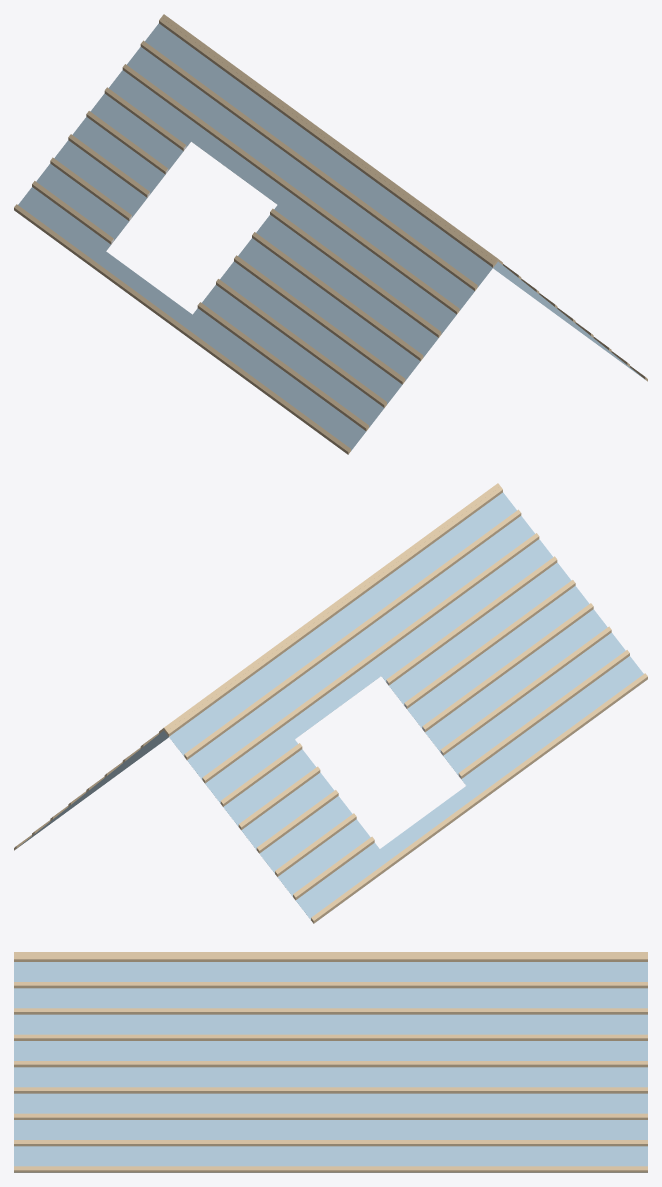
File: stage-5.glb
3 views of the same model, one above another, from view 1: azimuth 30°, elevation 25°; view 2: azimuth 150°, elevation 25°; view 3: azimuth 270°, elevation 25° (orthographic). The views are drawn at different scales.
Parts seen in each view (by area): view 1: Geom3D (×2); view 2: Geom3D (×2); view 3: Geom3D (×2).
Boxes of the visible parts, x1,y1,x2,y2 form: Geom3D (×2): [14, 14, 647, 454]; Geom3D (×2): [14, 483, 647, 923]; Geom3D (×2): [14, 952, 647, 1172].
Size of the model in its own units: 4.04 by 2.06 by 7.8.
